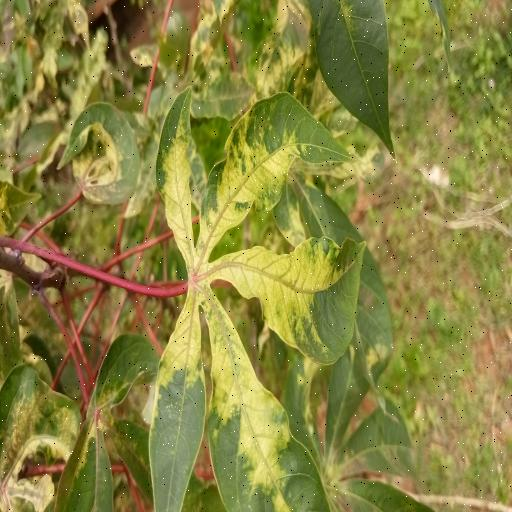Cassava_Mosaic: (149, 84, 370, 512)
